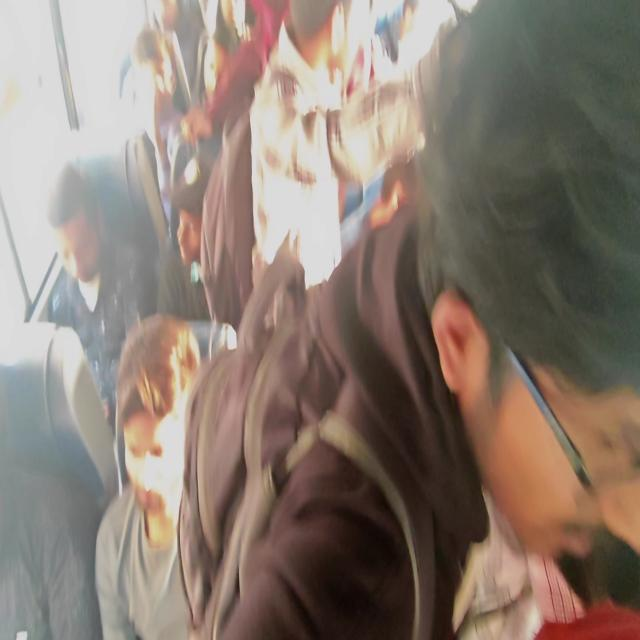person: (368, 57, 608, 496), (273, 4, 403, 157), (110, 370, 197, 595), (169, 160, 251, 346), (43, 172, 139, 320), (127, 32, 182, 118), (150, 0, 194, 65), (245, 2, 291, 56), (389, 0, 435, 54), (204, 32, 230, 104)
